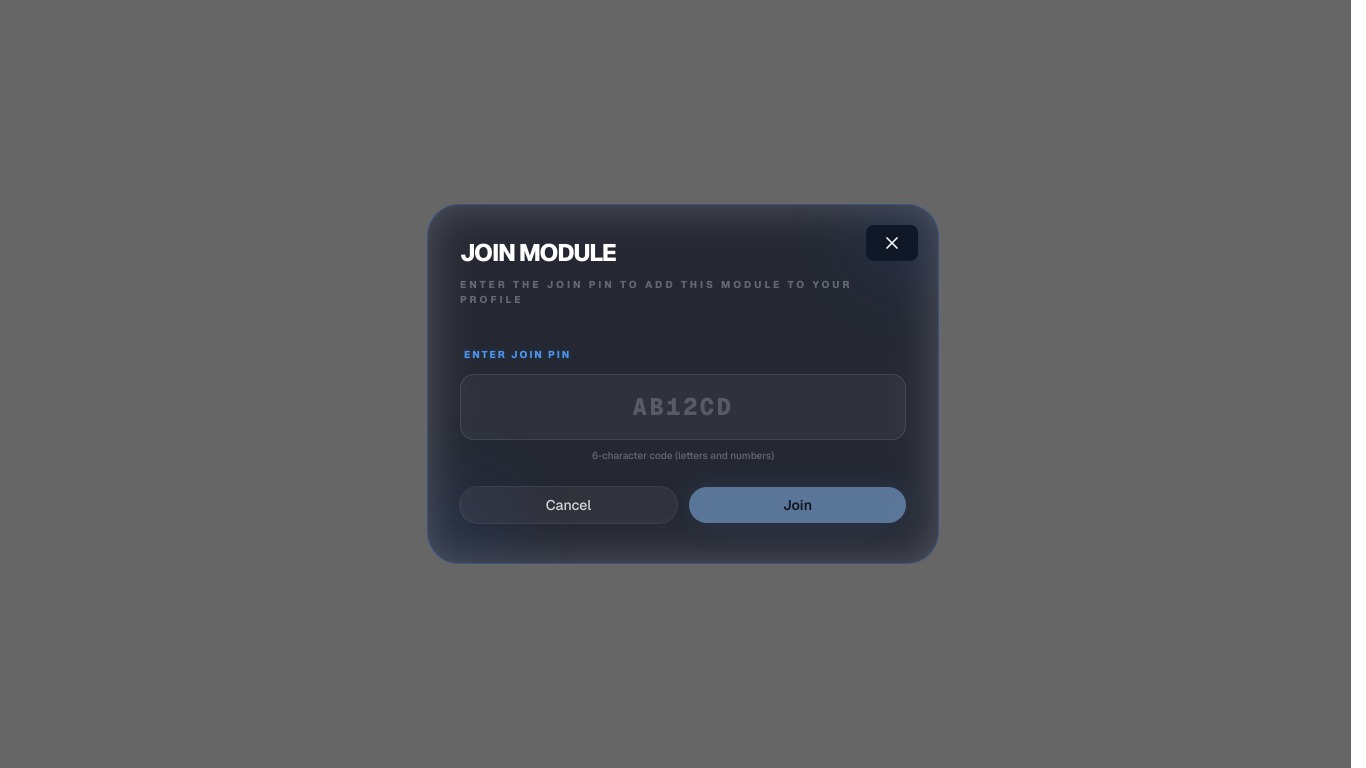
Scenario: JoinModule › shows server error when joinModule fails
Step 1. Type "XXXXXX" into the field with placeholder "AB12CD" → (683, 407), box [460,374,906,440]
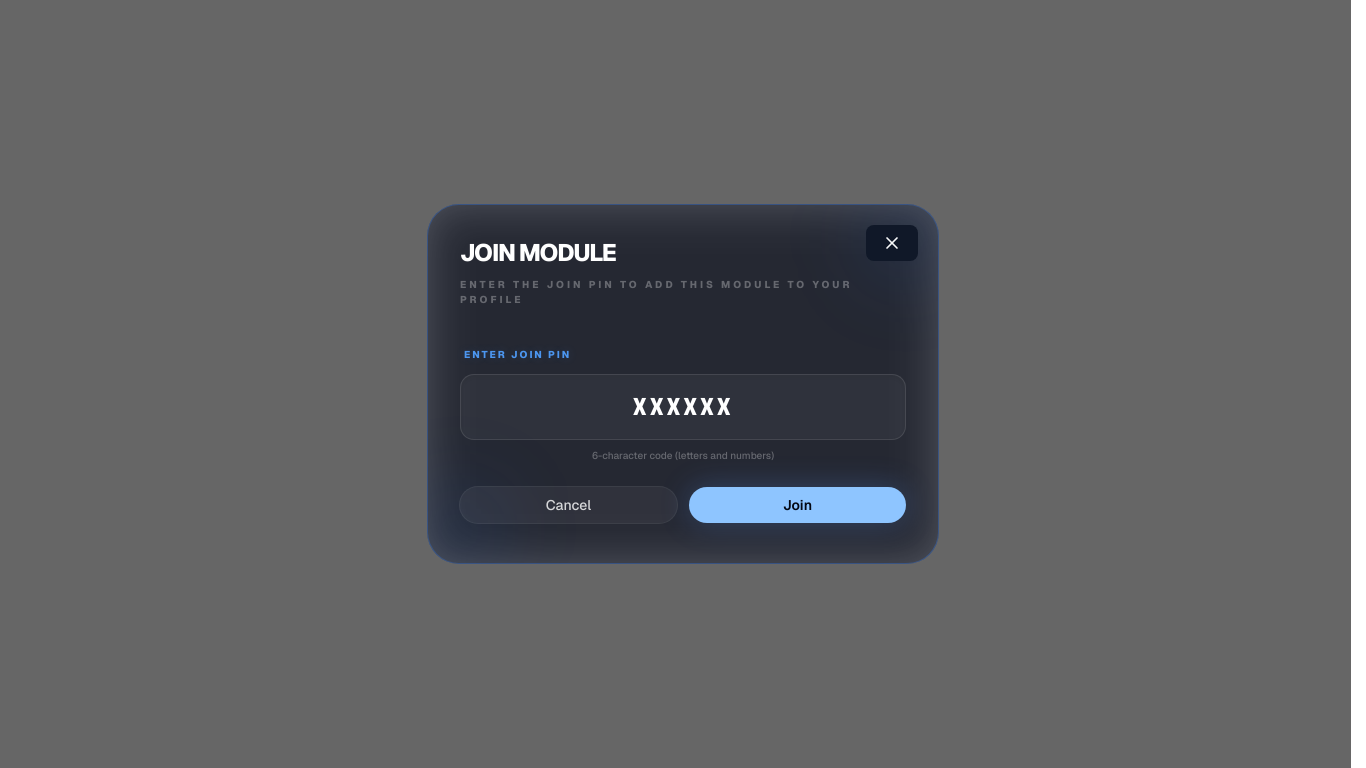
Step 2. Click the button "Join" → click(798, 505), box [689,487,906,523]
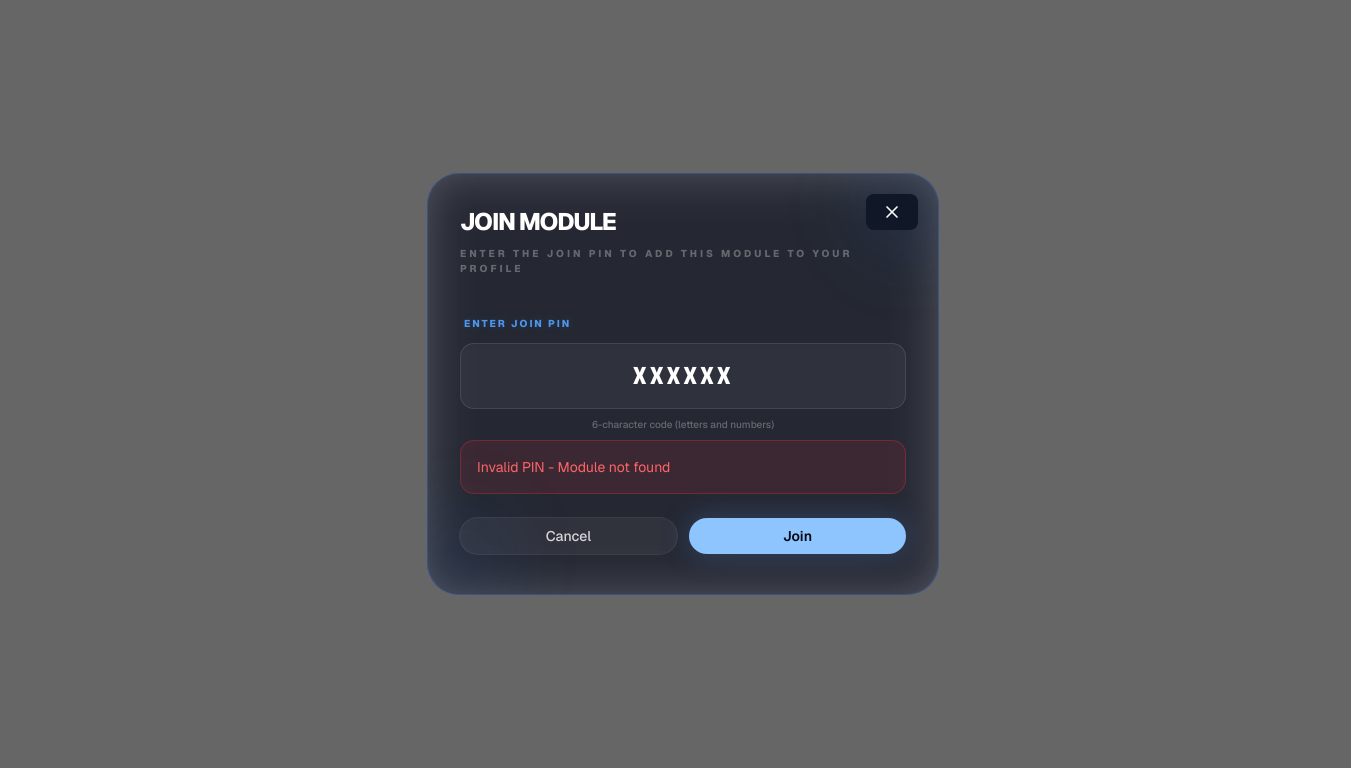
Now the text "Invalid PIN - Module not found" is shown, box [460,440,906,494]
